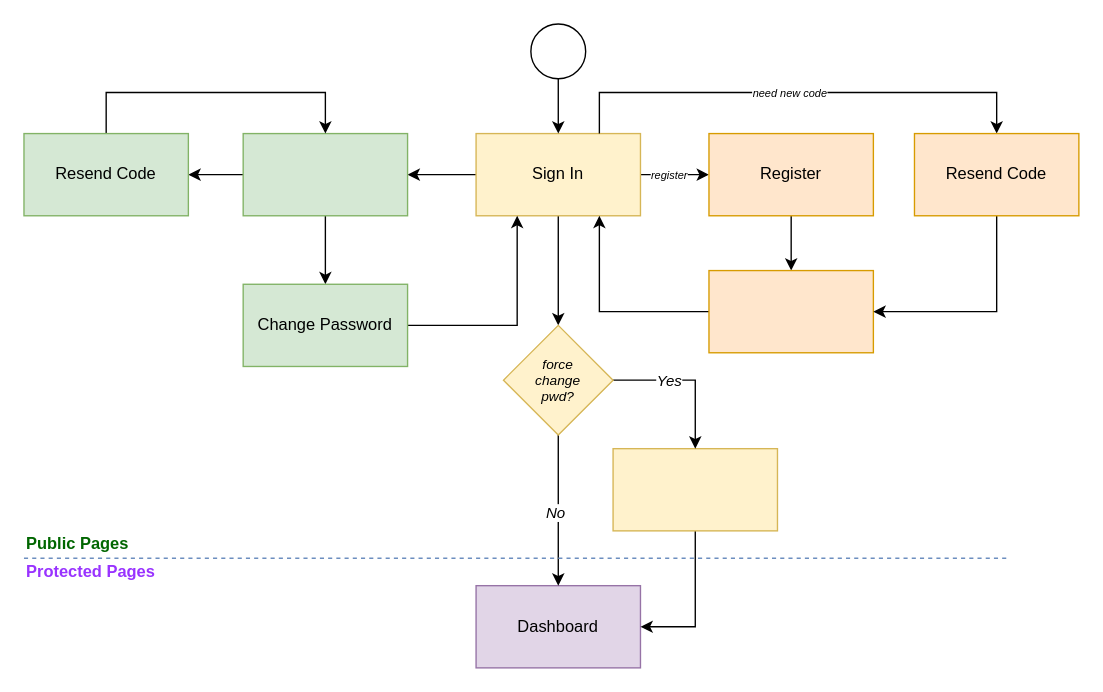
Image size: 1103x692. Some labels were removed from this diagram. The box of each missing label's shape, as (x1, y1, x2, y2) in pixels:
Force Change Password: (612, 447, 777, 531)
Forgot Password: (242, 132, 408, 216)
Register Confirm: (708, 269, 873, 353)
Start: (530, 23, 586, 79)
